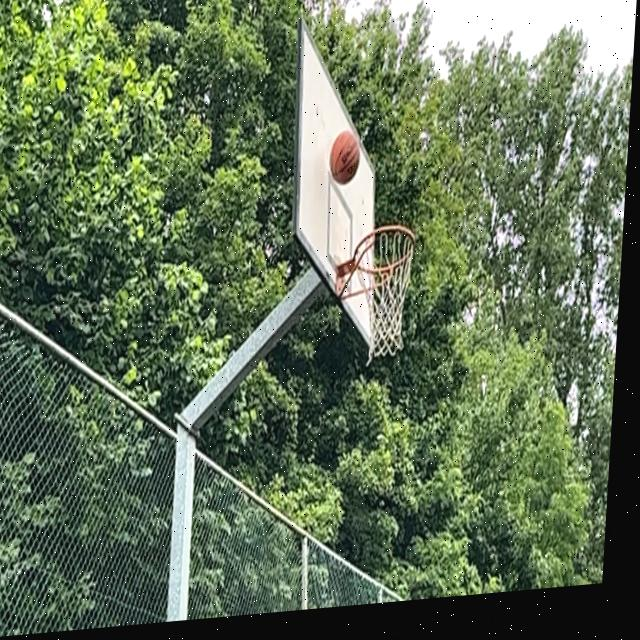Basketball: (328, 131, 361, 187)
